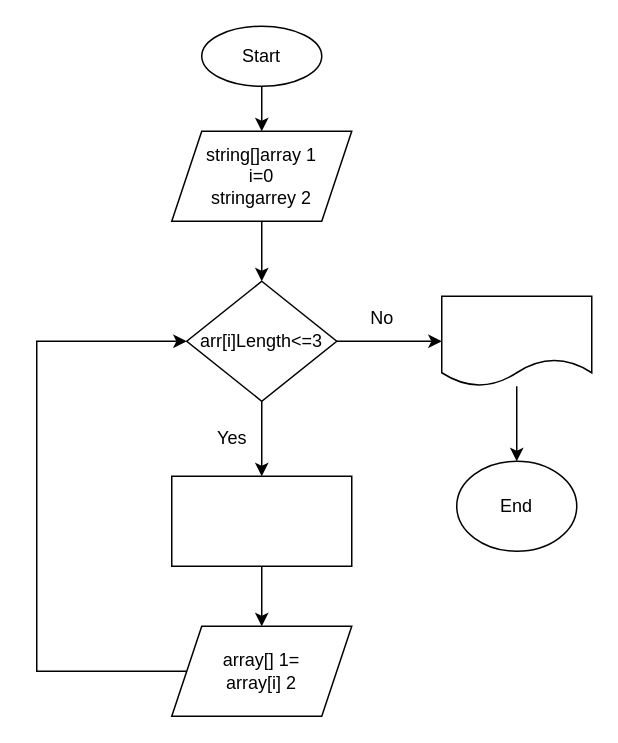
Some shapes in this 618 by 743 pixel diagram are drawn without their labels. The shapes that lost their labels are listed below. From the top down, each one's centre as x and y in pixels, then its label:
At pixel 516 340: "print stringarray 2".
At pixel 261 520: "i=0 i<arrayLength 1 i++".
